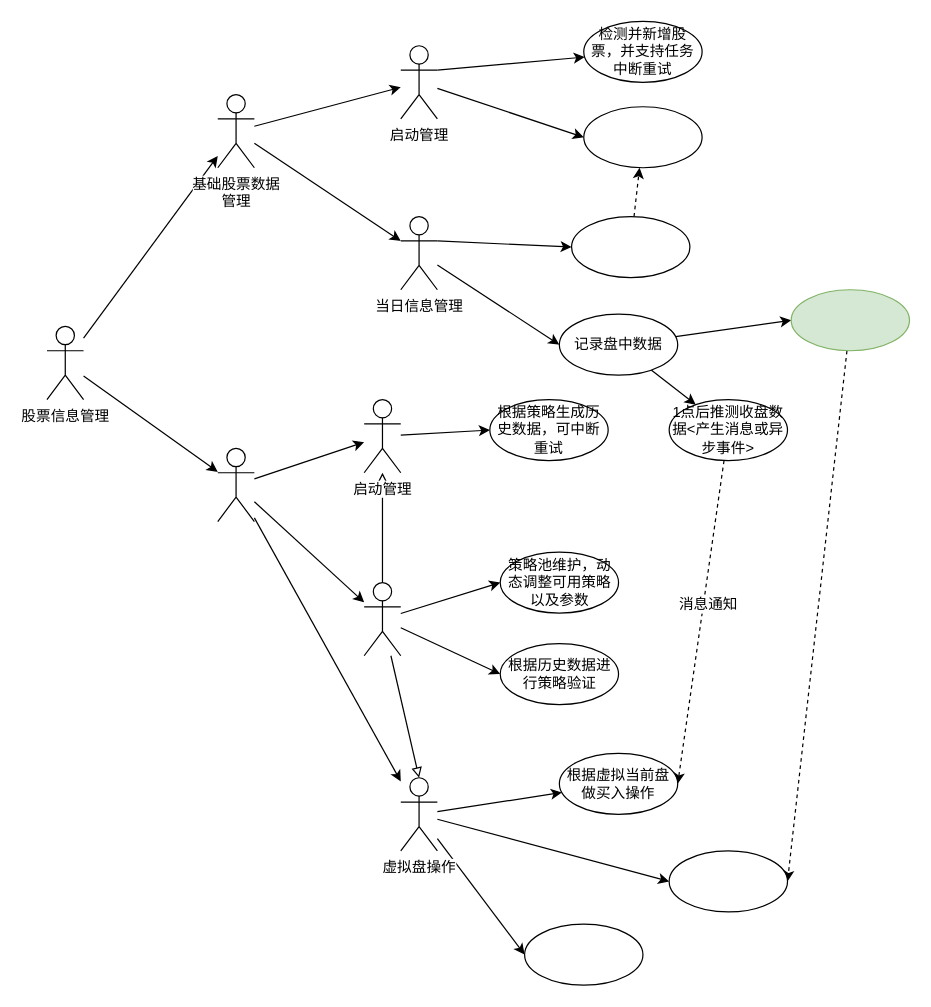
Some shapes in this 931 by 1007 pixel diagram are drawn without their labels. The shapes that lost their labels are listed below. From the top down, each one's centre as x and y in pixels, then its label:
the point at 642,137: 补全股票信息,根据当前时间和收盘时间对比是同步t-1还是t-0数据
the point at 630,246: 收盘后记录当日历史数据
the point at 850,320: 9点后根据当前日趋势判定卖盘（未来）
the point at 235,484: 股票分析管理
the point at 382,618: 策略管理
the point at 728,881: 根据当前价格做卖出操作（仅1次）
the point at 583,954: 根据当日收盘记录当日的失败/成交情况
